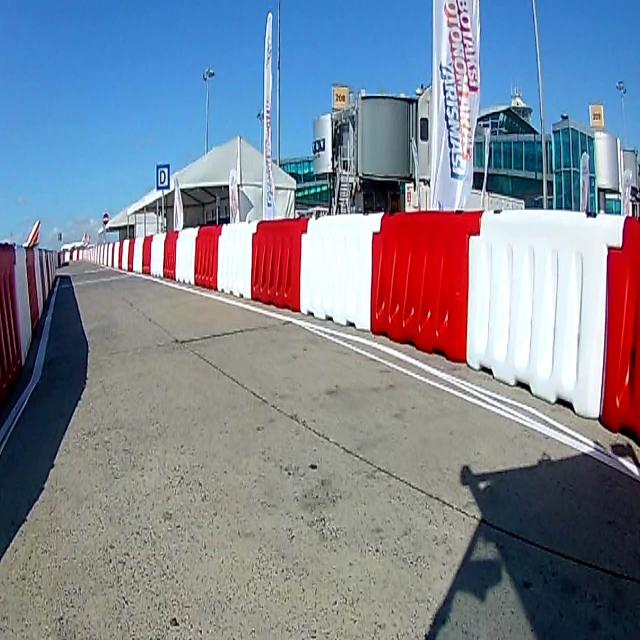durak: (156, 162, 170, 191)
girisyok: (102, 212, 109, 225)
